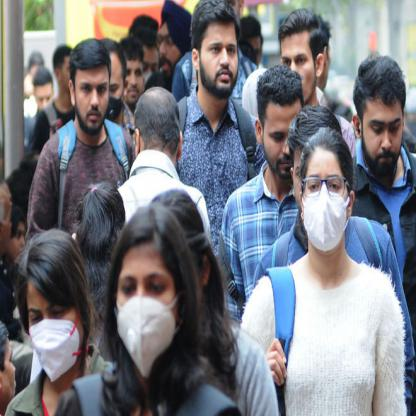Not_Wearing_Mask: (360, 73, 406, 182), (260, 81, 302, 173), (69, 52, 111, 136), (199, 14, 237, 98), (282, 21, 321, 98), (157, 14, 185, 79), (122, 47, 145, 102)
Wearing_Mask: (16, 263, 87, 382), (115, 248, 178, 373), (301, 153, 351, 259)
